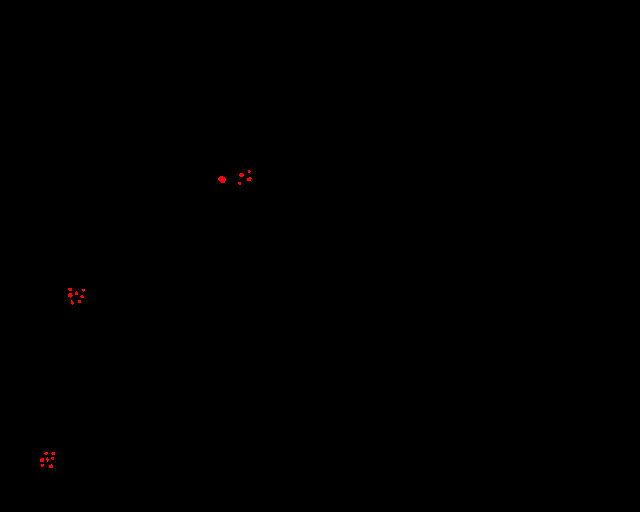Target: (218, 176, 226, 183), (68, 293, 73, 298), (239, 173, 244, 177), (247, 177, 252, 181), (40, 458, 44, 462), (49, 464, 53, 468), (71, 300, 74, 305), (46, 457, 49, 462), (68, 288, 72, 291), (75, 291, 78, 295), (80, 295, 84, 298), (44, 452, 48, 455), (51, 452, 55, 455), (248, 170, 251, 173), (238, 182, 241, 185), (82, 289, 85, 292), (78, 300, 81, 303), (51, 457, 54, 460), (41, 464, 44, 467)
